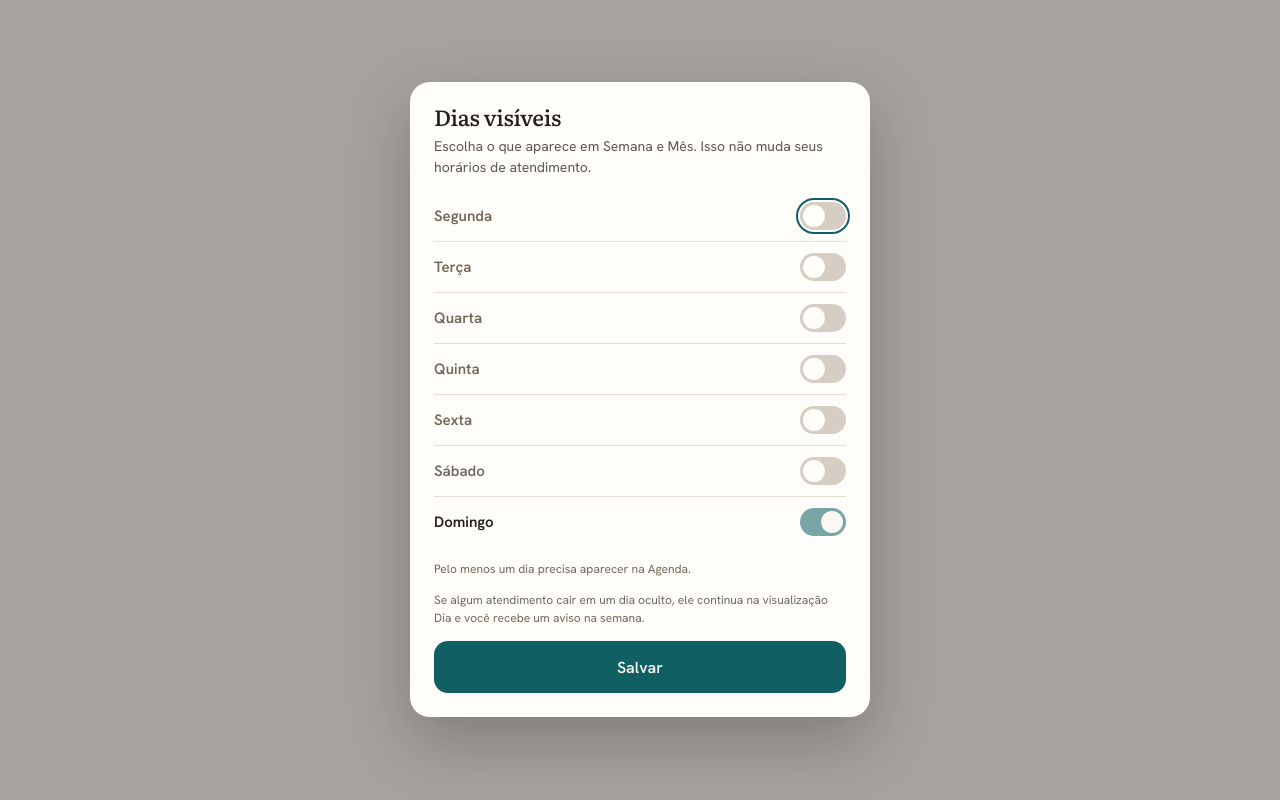
Test: Recusa do servidor pelo mesmo motivo › outra falha do servidor continua com a mensagem genérica
The width and height of the screenshot is (1280, 800).
Click the button "Salvar" at (640,668), box [434,642,846,694]
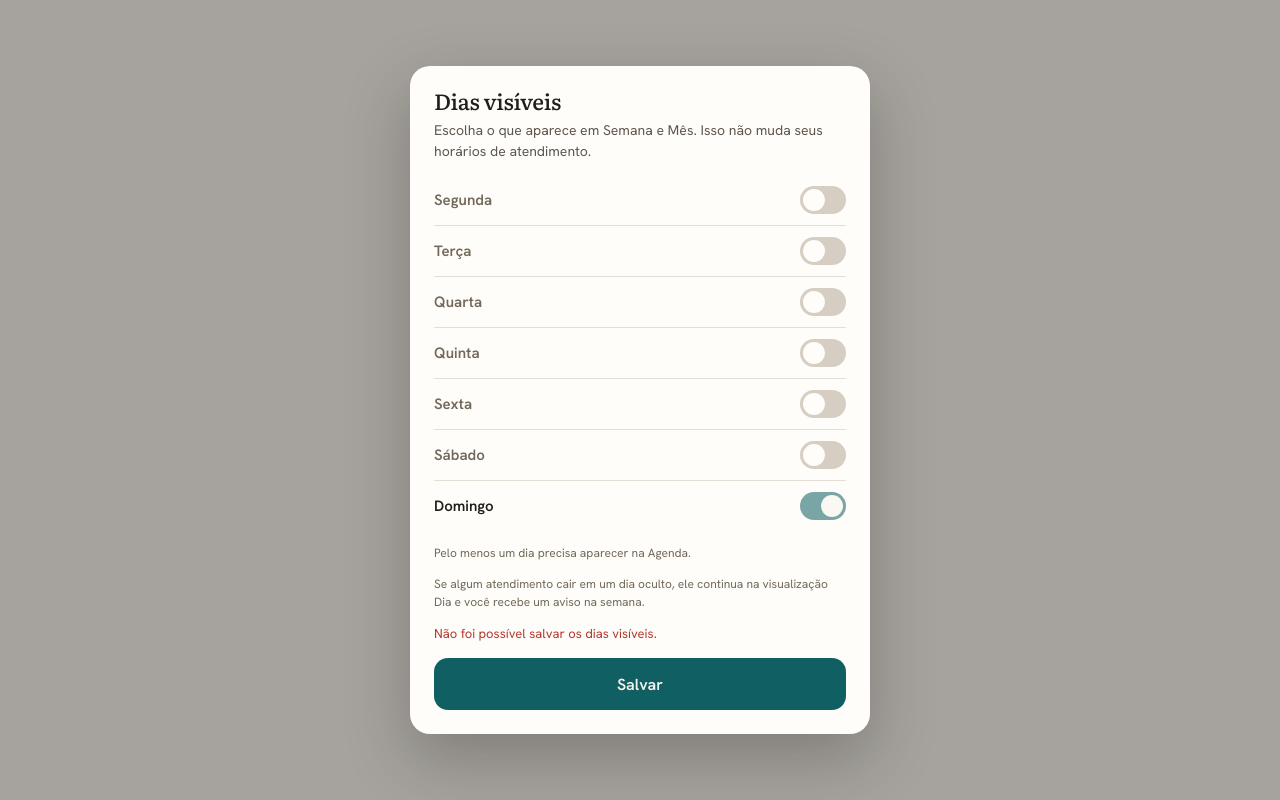
Expected: the message reads "Não foi possível salvar os dias visíveis.", [434,625,657,642]
